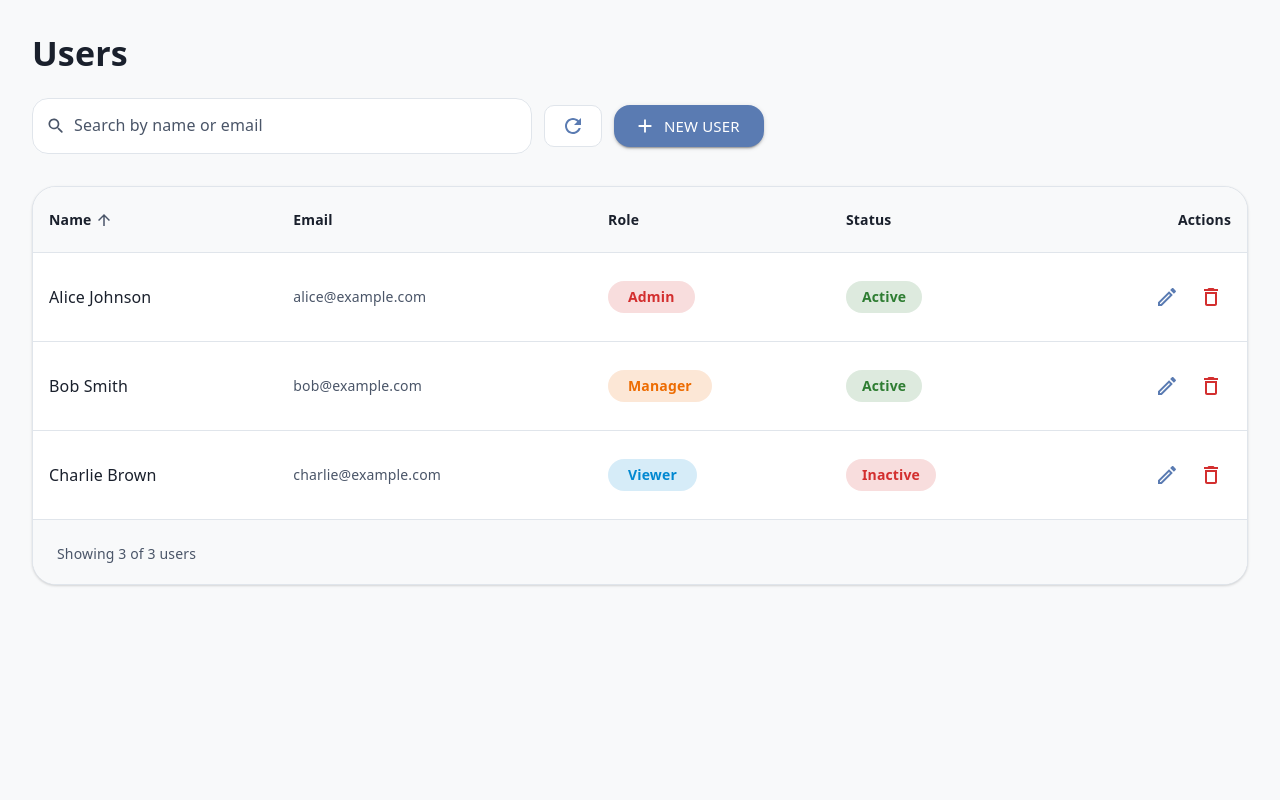
it: UsersFlow - Filtering › should be case-insensitive
Check: the text "Charlie Brown" is shown, box [49,464,156,486]
Type "CHARLIE" into the field with placeholder "Search by name or email" at x=303, y=126, box [74,98,532,154]
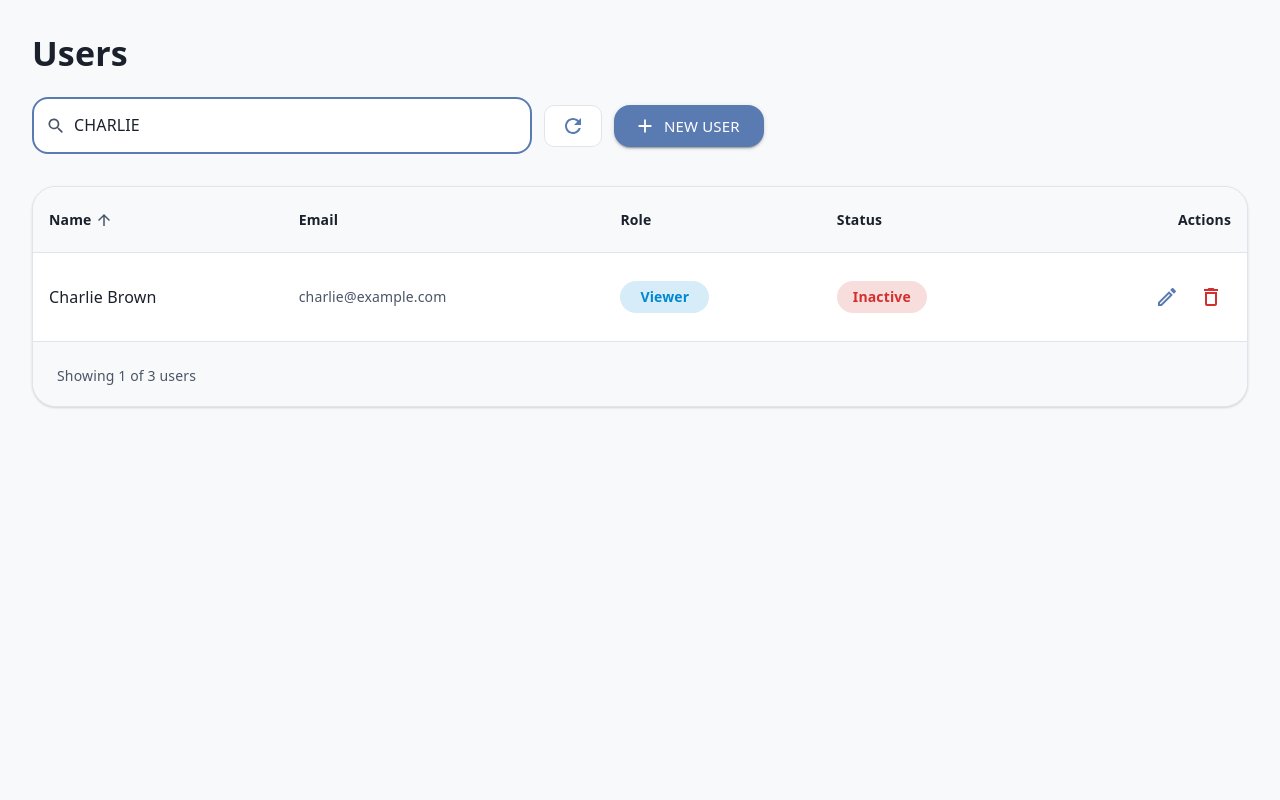
Check: the text "Charlie Brown" is shown, box [49,286,156,308]
Check: the text "Alice Johnson" is gone
